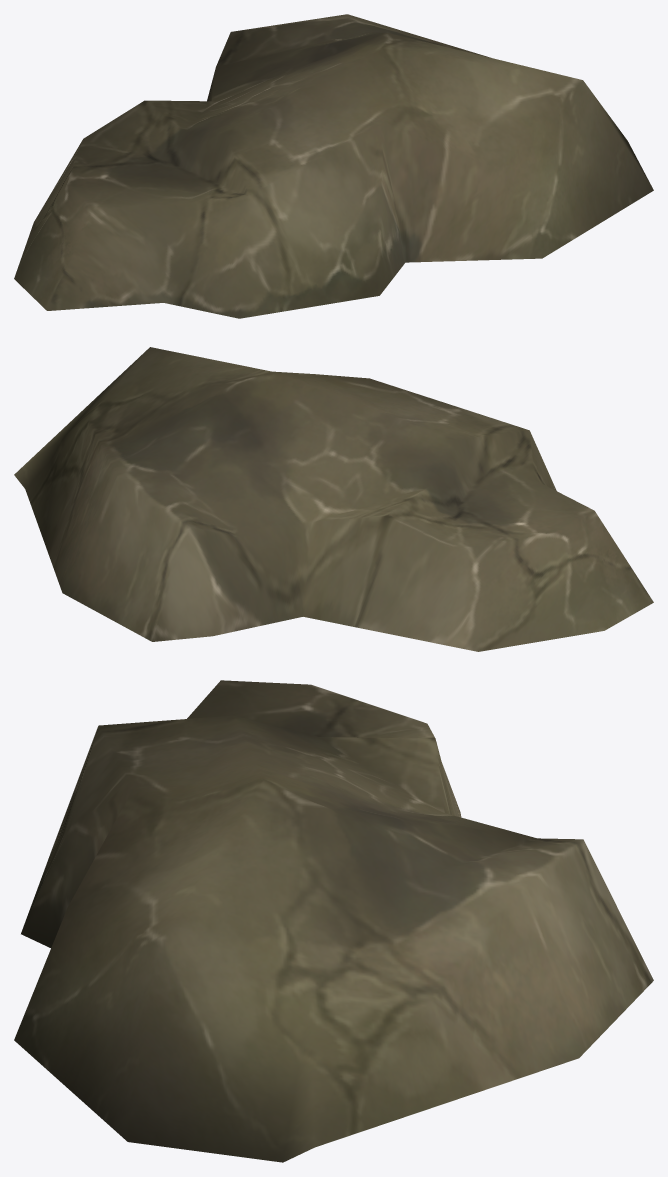
Rendered from rock2.fbx.
3 views of the same model, one above another, from view 1: azimuth 30°, elevation 25°; view 2: azimuth 150°, elevation 25°; view 3: azimuth 270°, elevation 25° (orthographic). The views are drawn at different scales.
Visible parts, largest first — view 1: rock2; view 2: rock2; view 3: rock2.
Boxes of the visible parts, bbox=[...] form: rock2: bbox=[14, 14, 653, 318]; rock2: bbox=[14, 347, 653, 651]; rock2: bbox=[14, 680, 653, 1162].
Size of the model in its own units: 0.8644 by 0.2155 by 0.5783.
